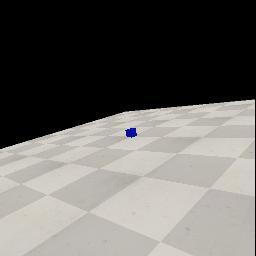box: (125, 128, 137, 138)
